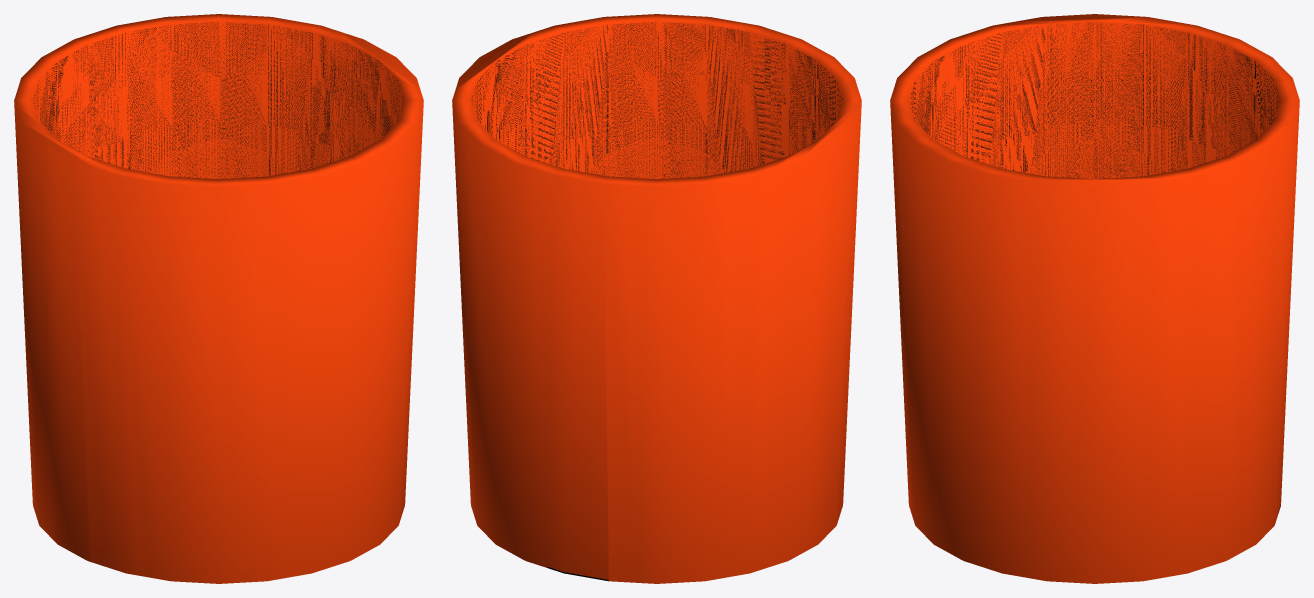
The model's file is cup_04_origin_gt_7.dae.
The picture shows the model from 3 angles, left to right: view 1: azimuth 30°, elevation 25°; view 2: azimuth 150°, elevation 25°; view 3: azimuth 270°, elevation 25°; orthographic projection.
Visible parts, largest first — view 1: dixie_cup (×2); view 2: dixie_cup (×2); view 3: dixie_cup (×2).
Part boxes in pixels (x1,y1,x2,y2): dixie_cup (×2): [14, 14, 423, 583]; dixie_cup (×2): [452, 14, 861, 583]; dixie_cup (×2): [890, 14, 1299, 583].
Bounding box in the file's own units: 4.77 × 4.77 × 5.2.
